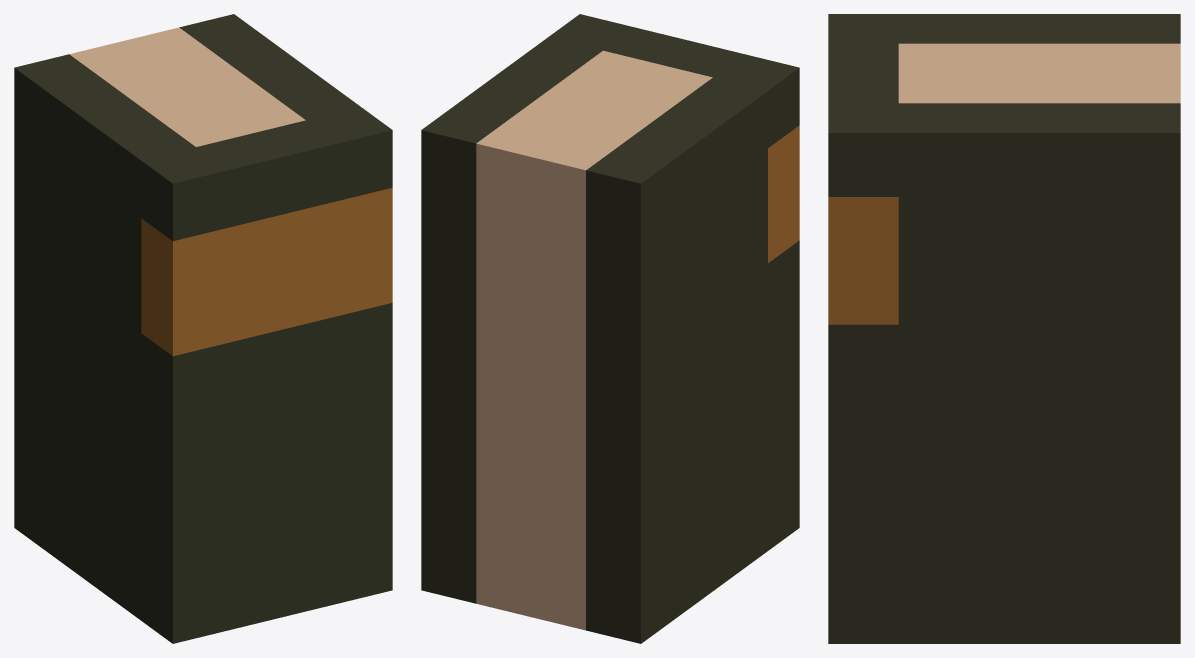
File: Livre 3.obj
3 views of the same model, side by side, from view 1: azimuth 30°, elevation 25°; view 2: azimuth 150°, elevation 25°; view 3: azimuth 270°, elevation 25° (orthographic). The views are drawn at different scales.
Parts seen in each view (by area): view 1: Livre 3; view 2: Livre 3; view 3: Livre 3.
Part boxes in pixels (<box>): Livre 3: <box>14,14,392,643</box>; Livre 3: <box>421,14,799,643</box>; Livre 3: <box>828,14,1180,643</box>.
Bounding box in the file's own units: 4 × 8 × 5.
Materials: 1 (1 with a texture image).
